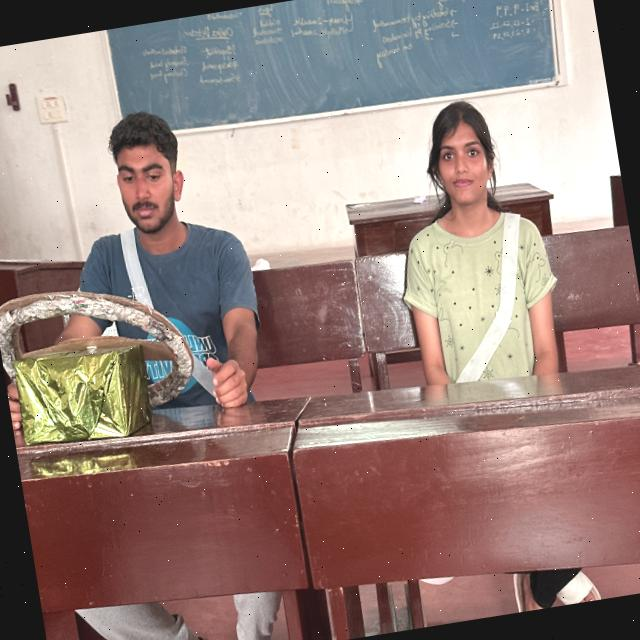seatbelt: (64, 204, 270, 438), (384, 202, 572, 392)
